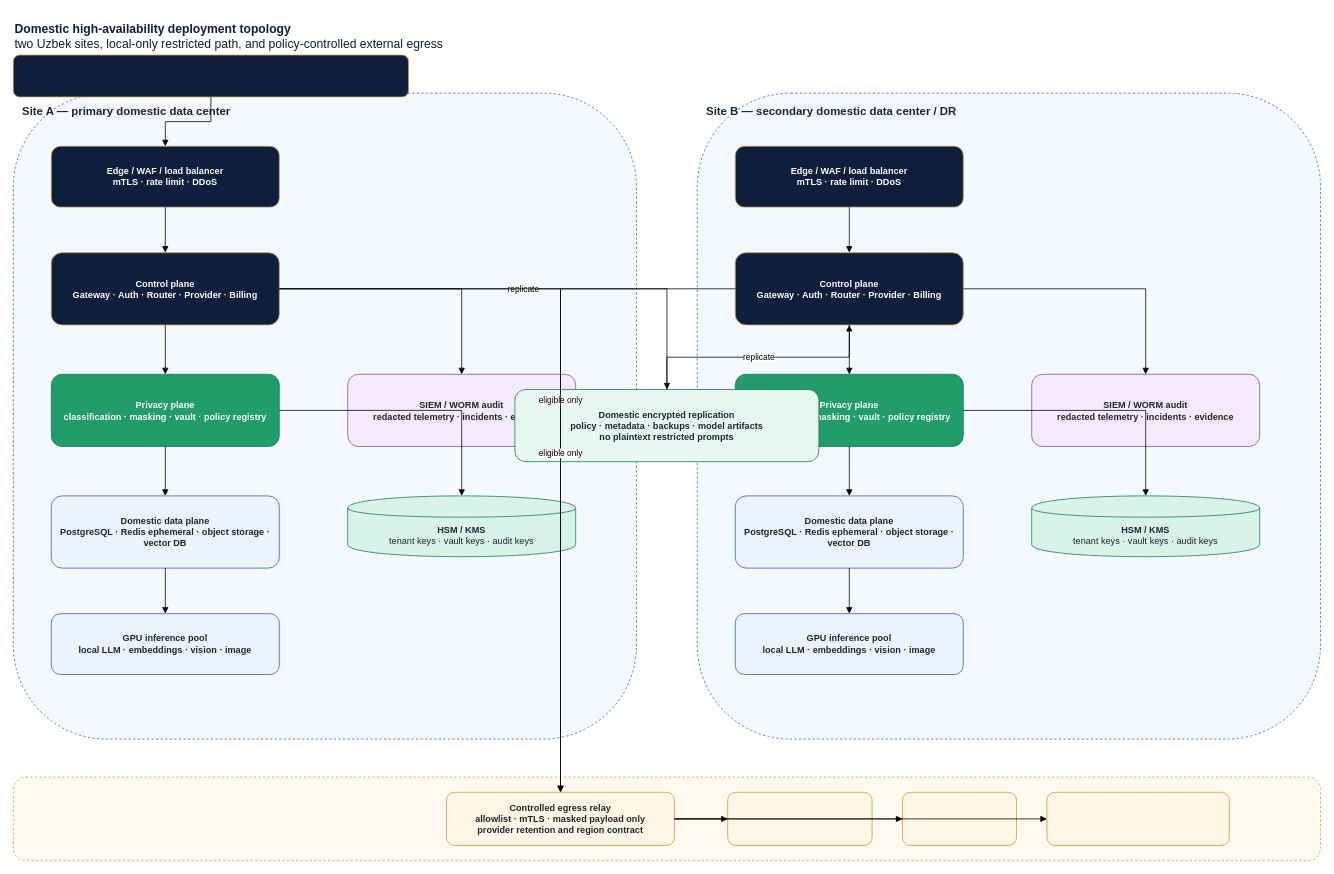
The diagram is 1334 pixels wide and 874 high, and some of its shapes have lost their labels. Each missing label, with the box of its shape:
Anthropic: (902, 792, 1016, 846)
Approved external provider zone — optional for eligible data only: (13, 776, 1320, 861)
Google / Mistral / others: (1046, 792, 1229, 846)
Government · banks · enterprises · developers private links / VPN / API ingress: (13, 54, 408, 97)
OpenAI / Azure OpenAI: (727, 792, 872, 846)
